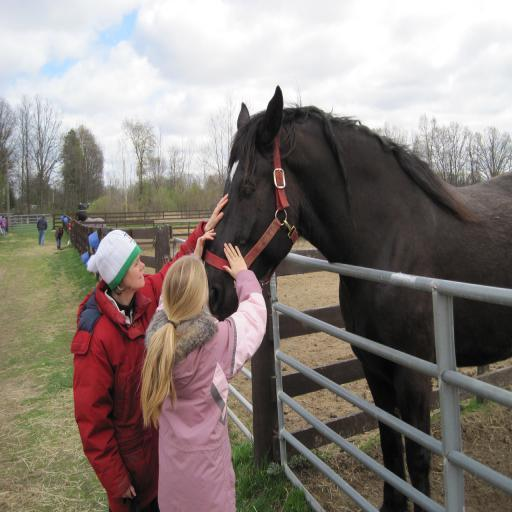horse: (201, 82, 512, 512)
